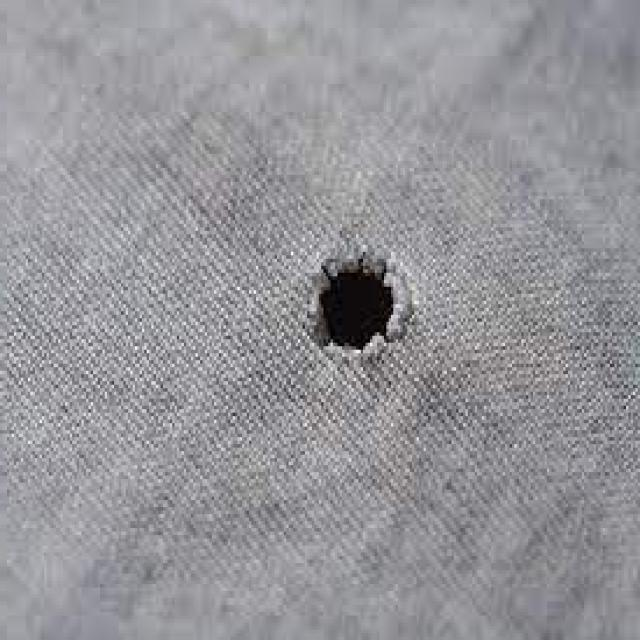Hole: (308, 254, 395, 350)
